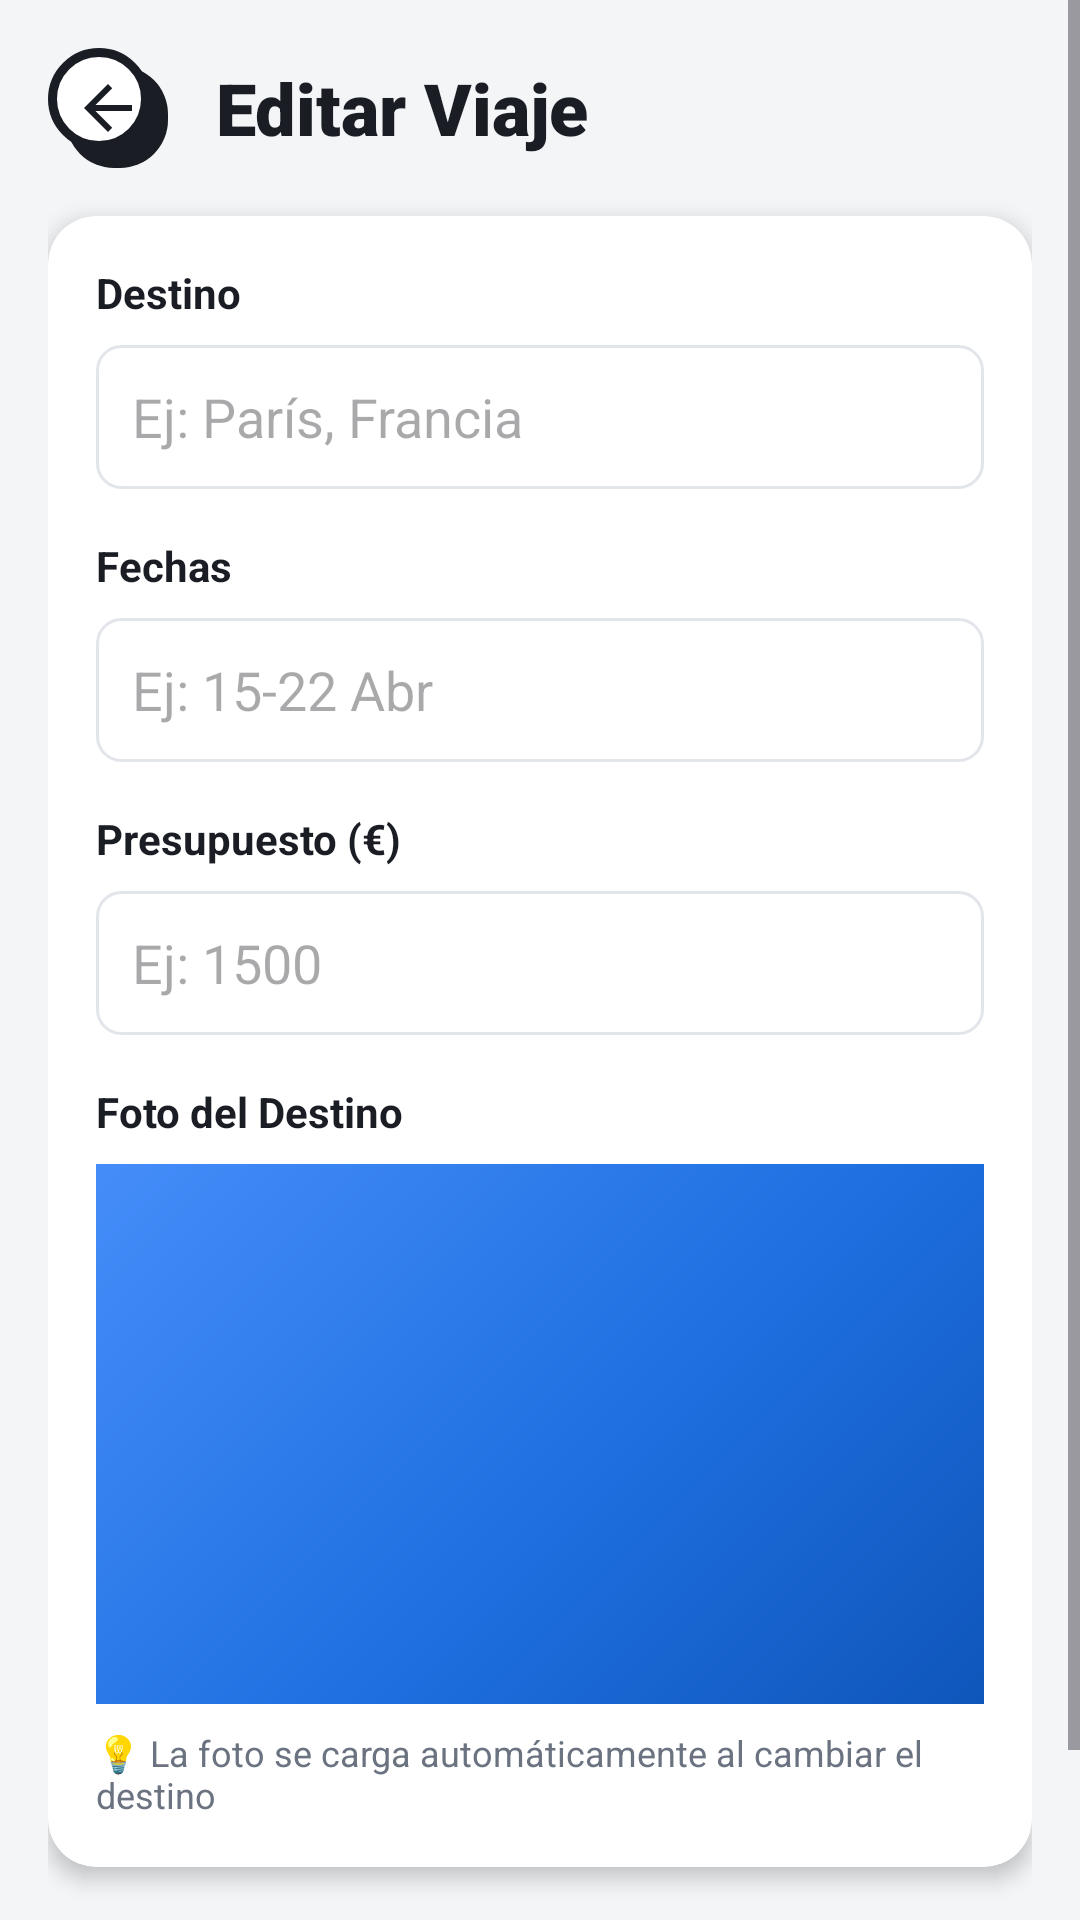

Icons on this 1080 × 1920 Android screen, each with its box as [x1=x1, y1=y1, x2=x2, y2=y2]:
Volver: [x1=48, y1=48, x2=168, y2=168]
